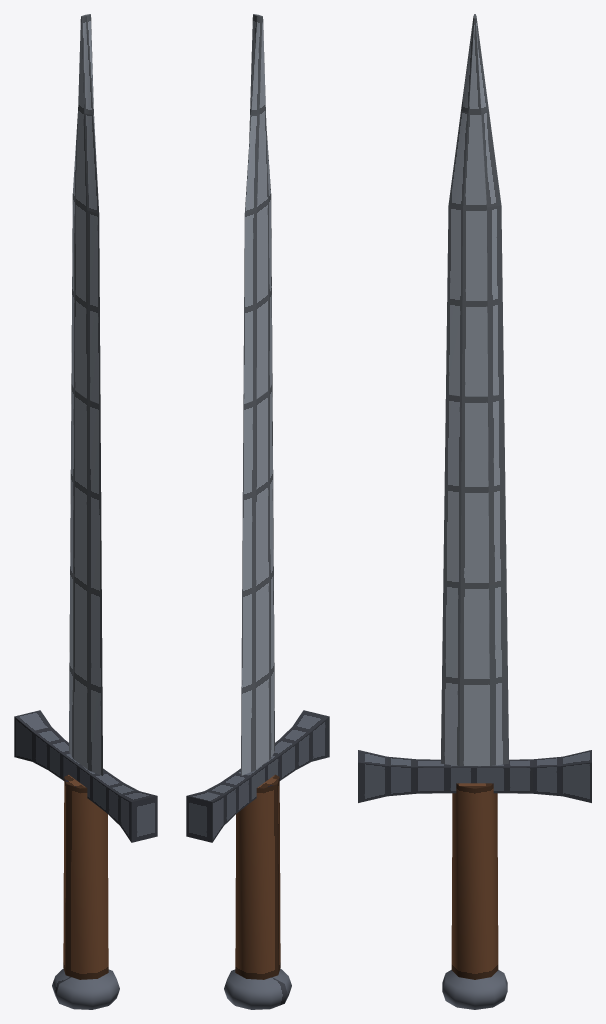
File: arming_sword.glb
The picture shows the model from 3 angles, left to right: view 1: azimuth 30°, elevation 25°; view 2: azimuth 150°, elevation 25°; view 3: azimuth 270°, elevation 25°; orthographic projection.
Parts seen in each view (by area): view 1: arming_sword; view 2: arming_sword; view 3: arming_sword.
Boxes of the visible parts, left/top/right/bottom form: arming_sword: left=14, top=14, right=157, bottom=1009; arming_sword: left=186, top=14, right=329, bottom=1009; arming_sword: left=358, top=14, right=591, bottom=1009.
Size of the model in its own units: 0.044 by 0.698 by 0.15.
1 material, 1 textured.
